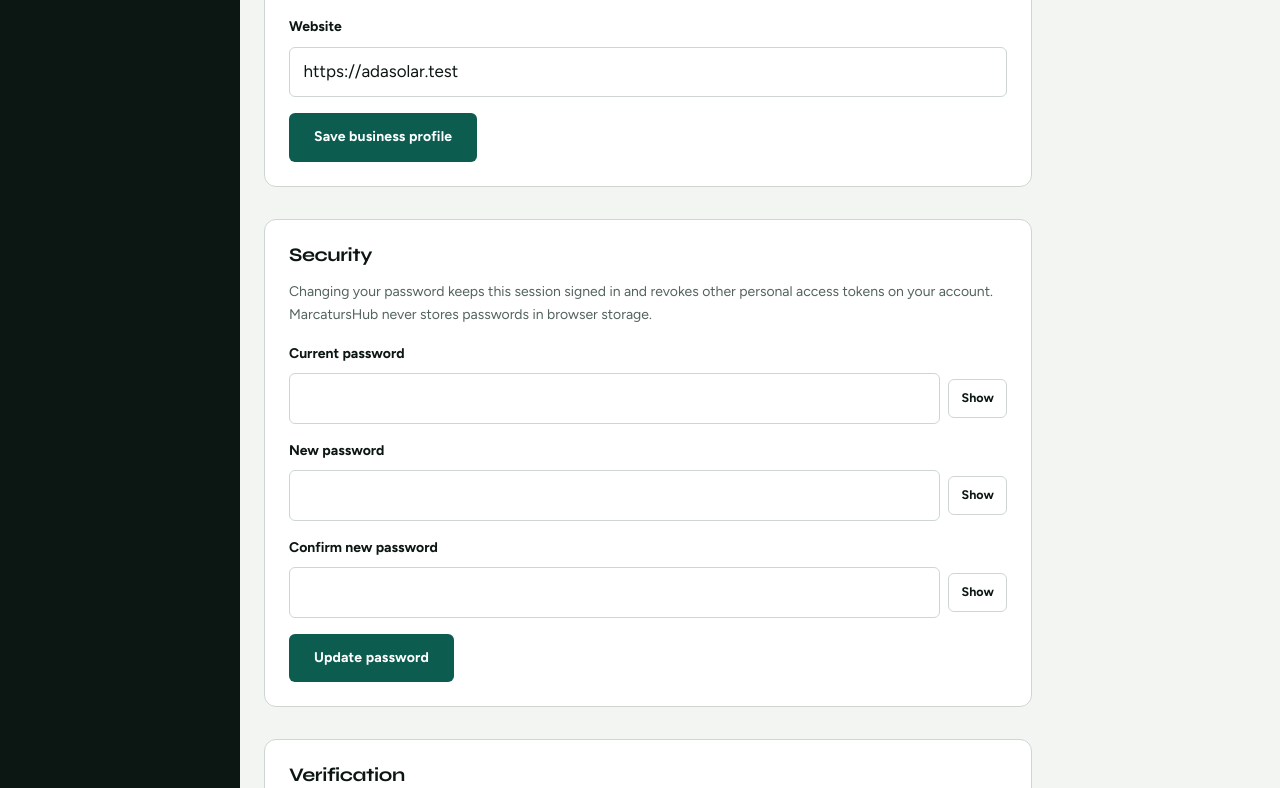
Scenario: MH-FE-P09 participant settings › validates password mismatch client-side
This screenshot has width=1280, height=788.
(page scrolled)
Type "DemoPass123!" into the password field labelled "Current password" at (615, 398), box x1=289 y1=373 x2=940 y2=424
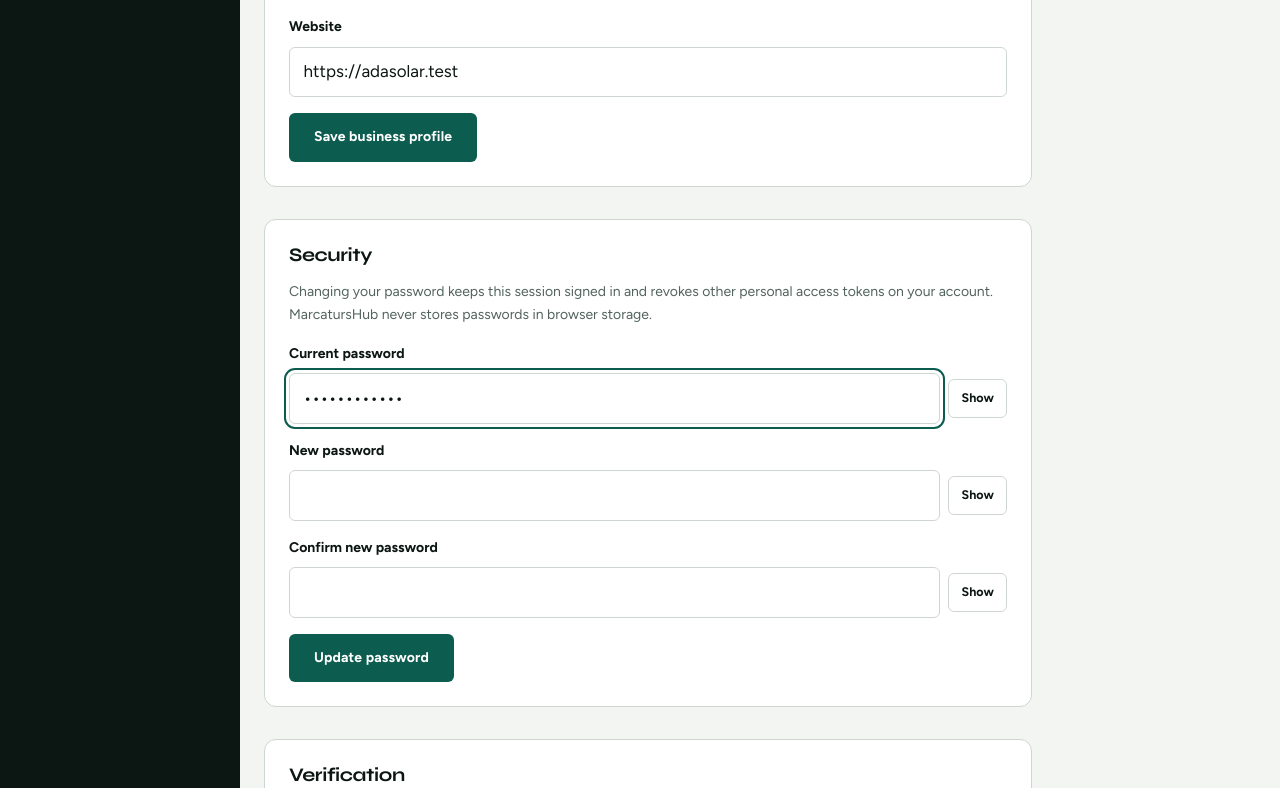
Type "NewPass123!" into the password field labelled "New password" at (615, 495), box x1=289 y1=470 x2=940 y2=521
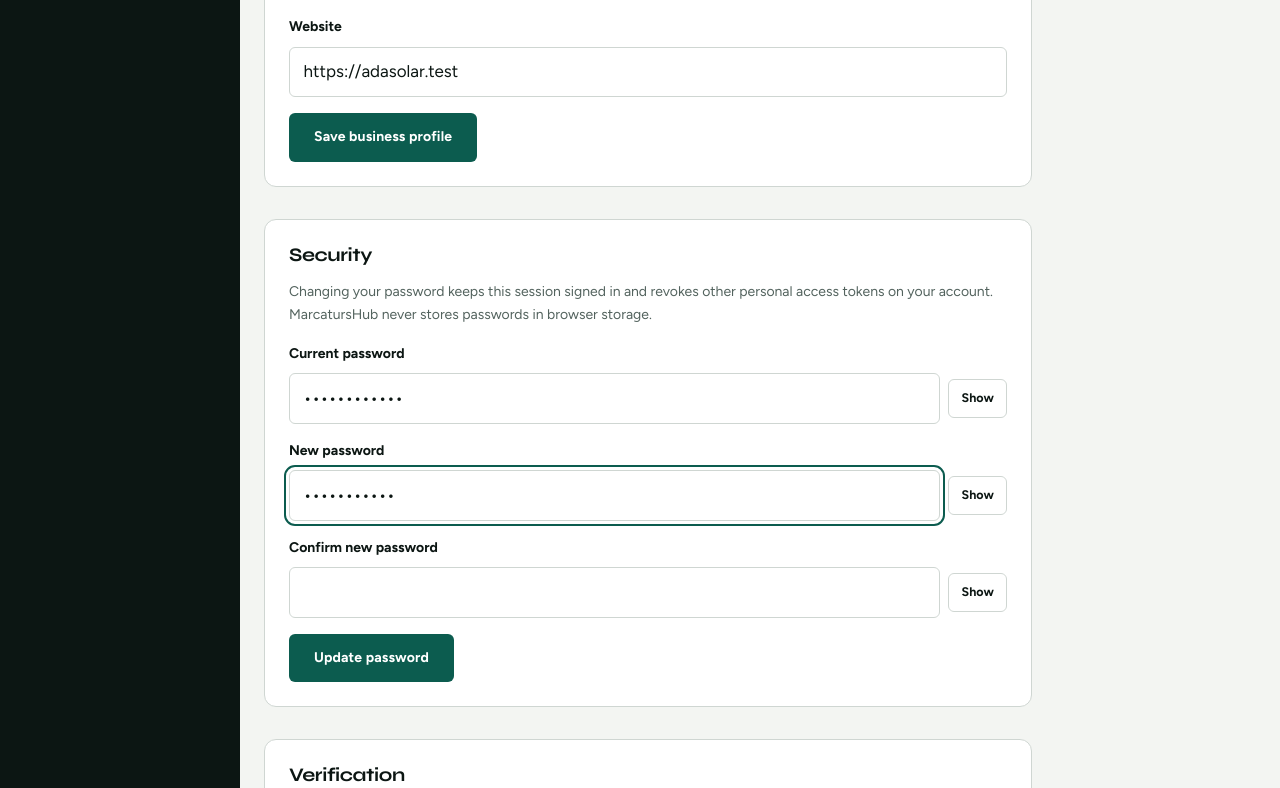
Type "Different1!" into the password field labelled "Confirm new password" at (615, 592), box x1=289 y1=567 x2=940 y2=618
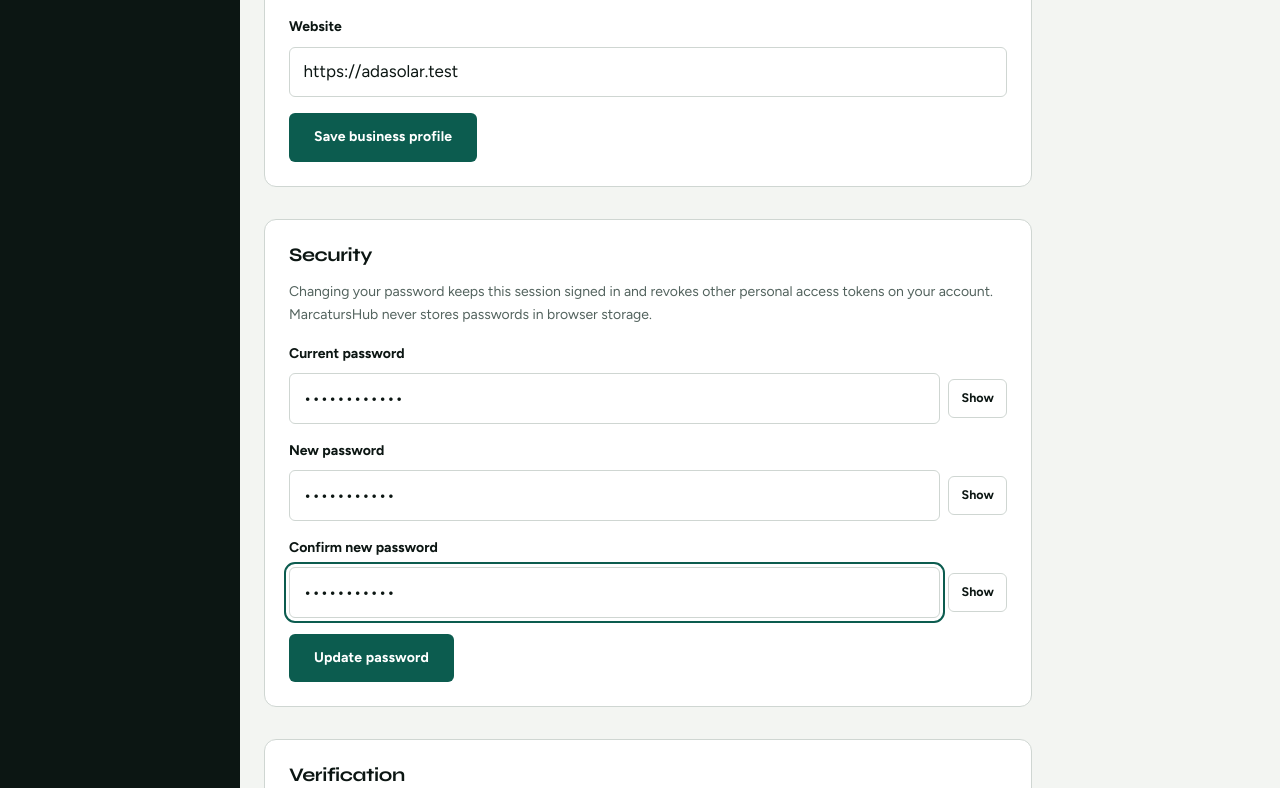
Click the button "Update password" at (371, 658), box x1=289 y1=634 x2=454 y2=682
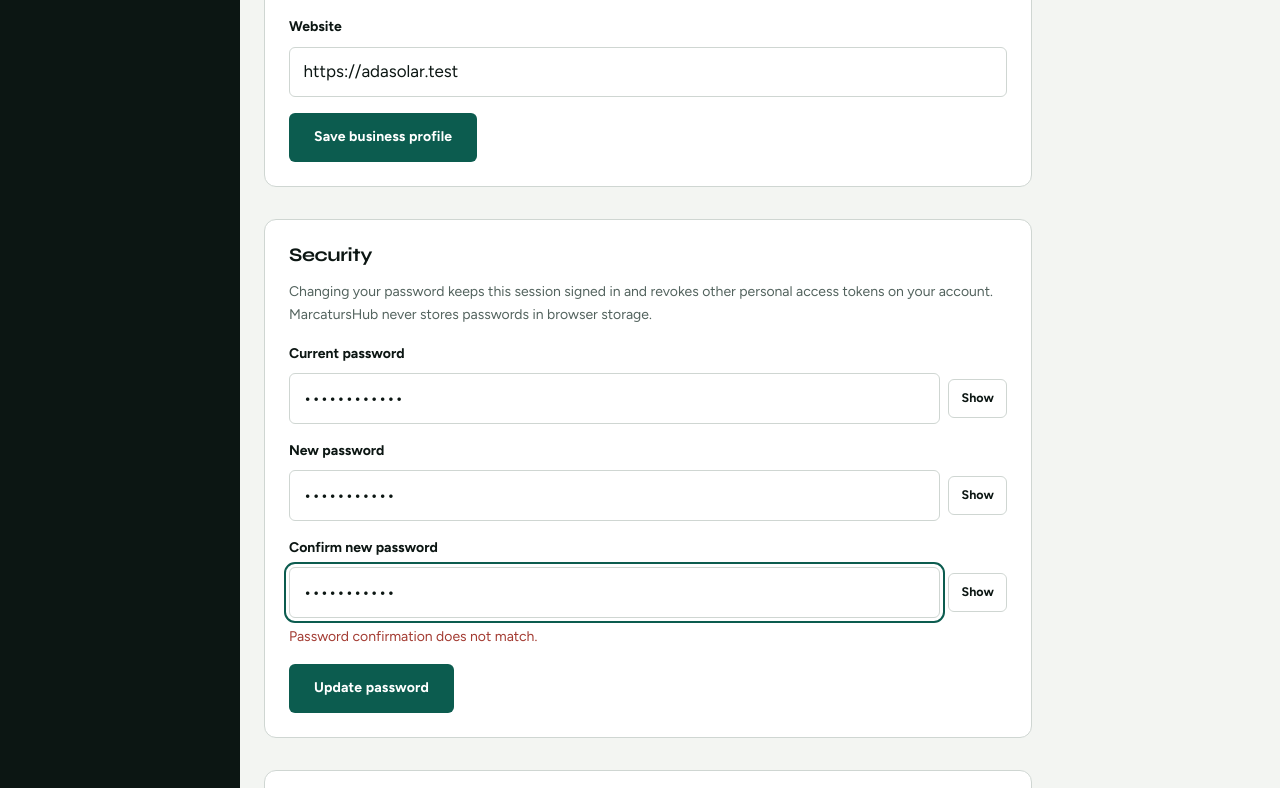
Check: the text "Password confirmation does not match." is shown, box x1=289 y1=628 x2=537 y2=645
